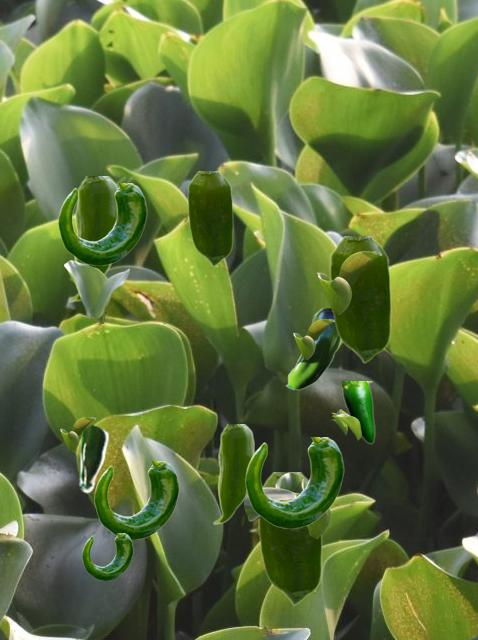green_chili: (245, 437, 343, 527), (257, 472, 321, 604), (329, 236, 390, 362), (58, 183, 146, 264), (94, 461, 178, 538), (67, 176, 117, 302), (285, 308, 341, 389), (187, 171, 232, 265), (212, 424, 253, 524), (82, 533, 132, 579), (77, 424, 108, 492), (342, 381, 374, 443)
